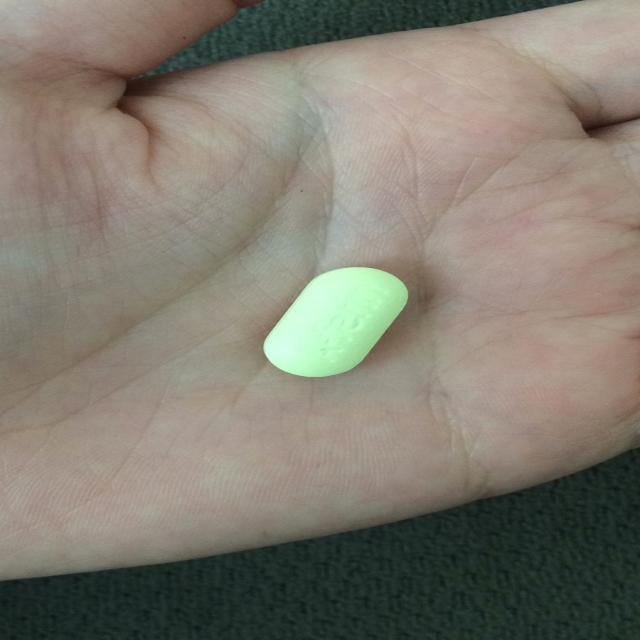pills: (240, 246, 425, 384)
